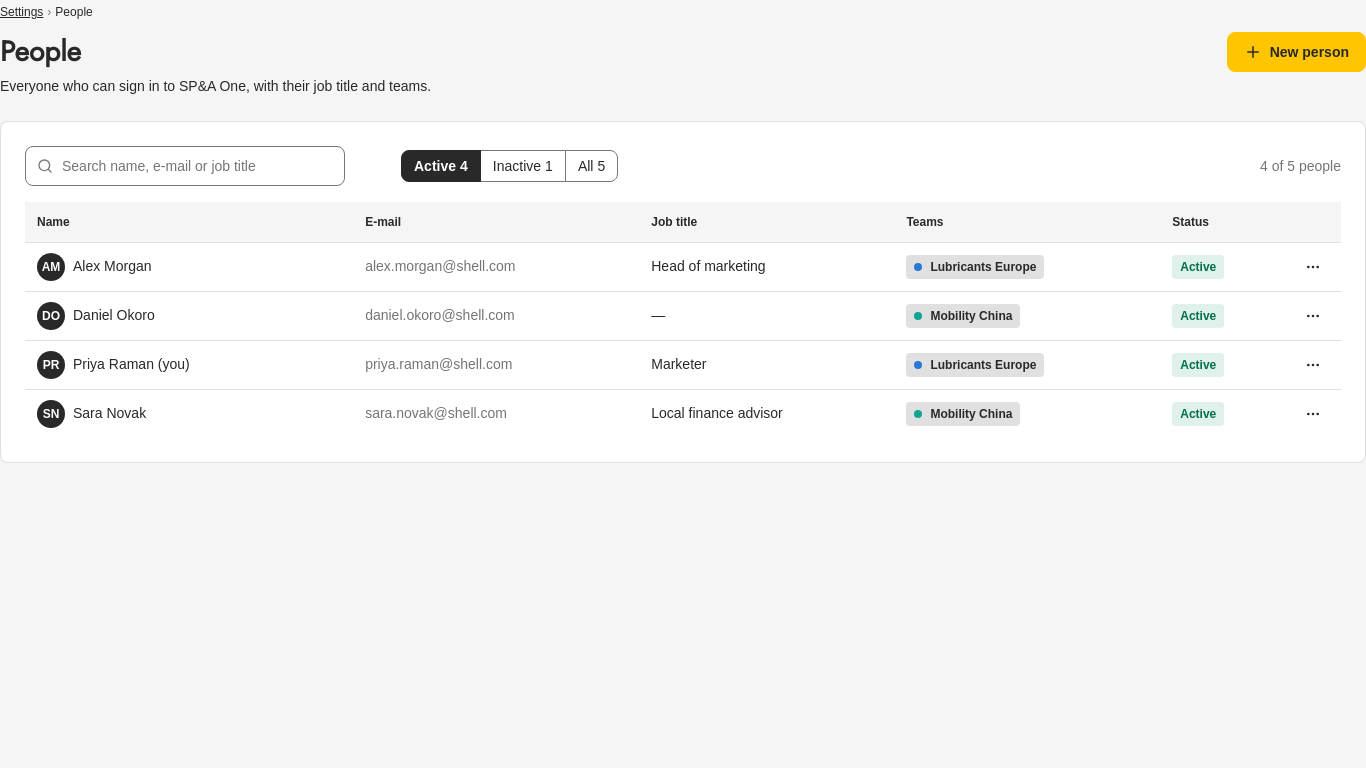
Scenario: 017 FR-016: the line manager on Settings › People › shows the API’s refusal at the field, with everything else that is wrong
Click the button named "Actions for Sara Novak" at (1313, 414), box [1297,398,1329,430]
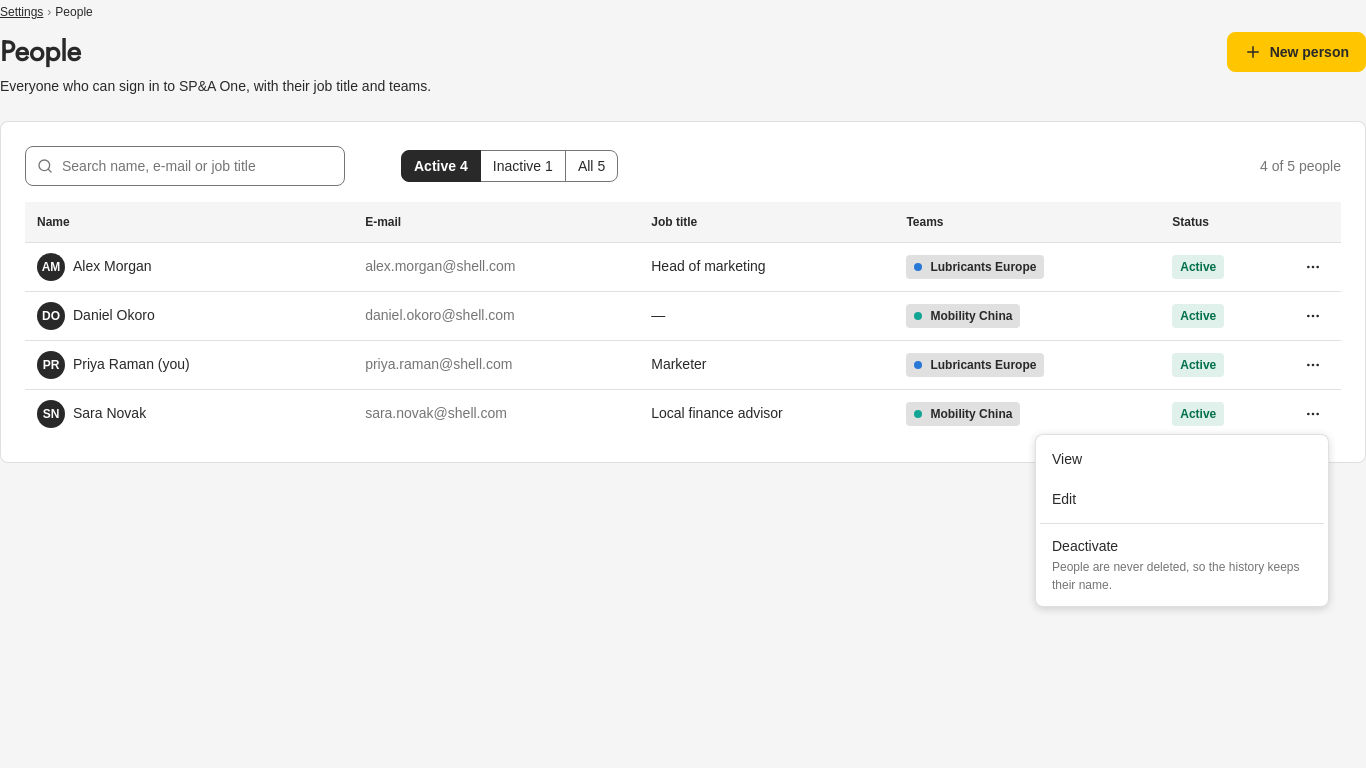
Click the menu item "Edit" at (1064, 499), box [1052,491,1076,507]
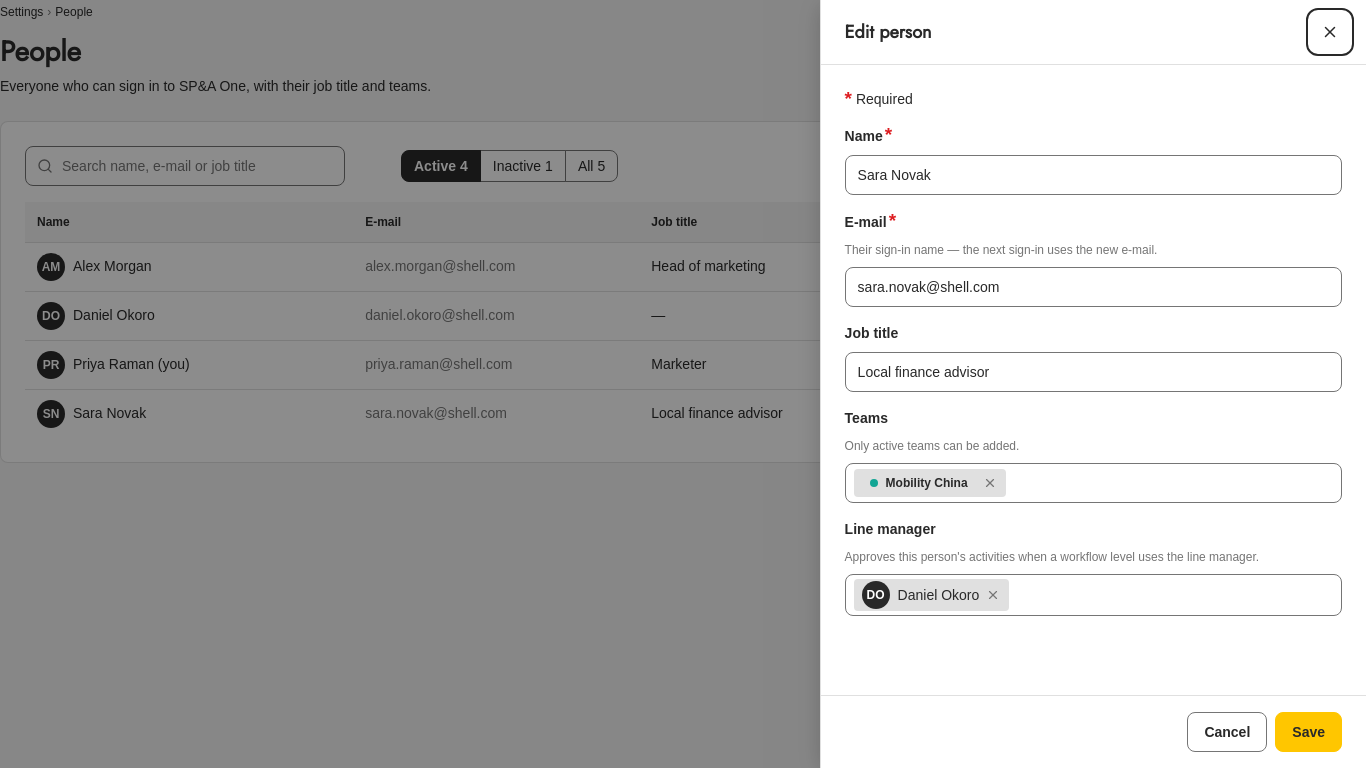
Click the button named "Remove Daniel Okoro" at (993, 595), box [981,583,1005,607]
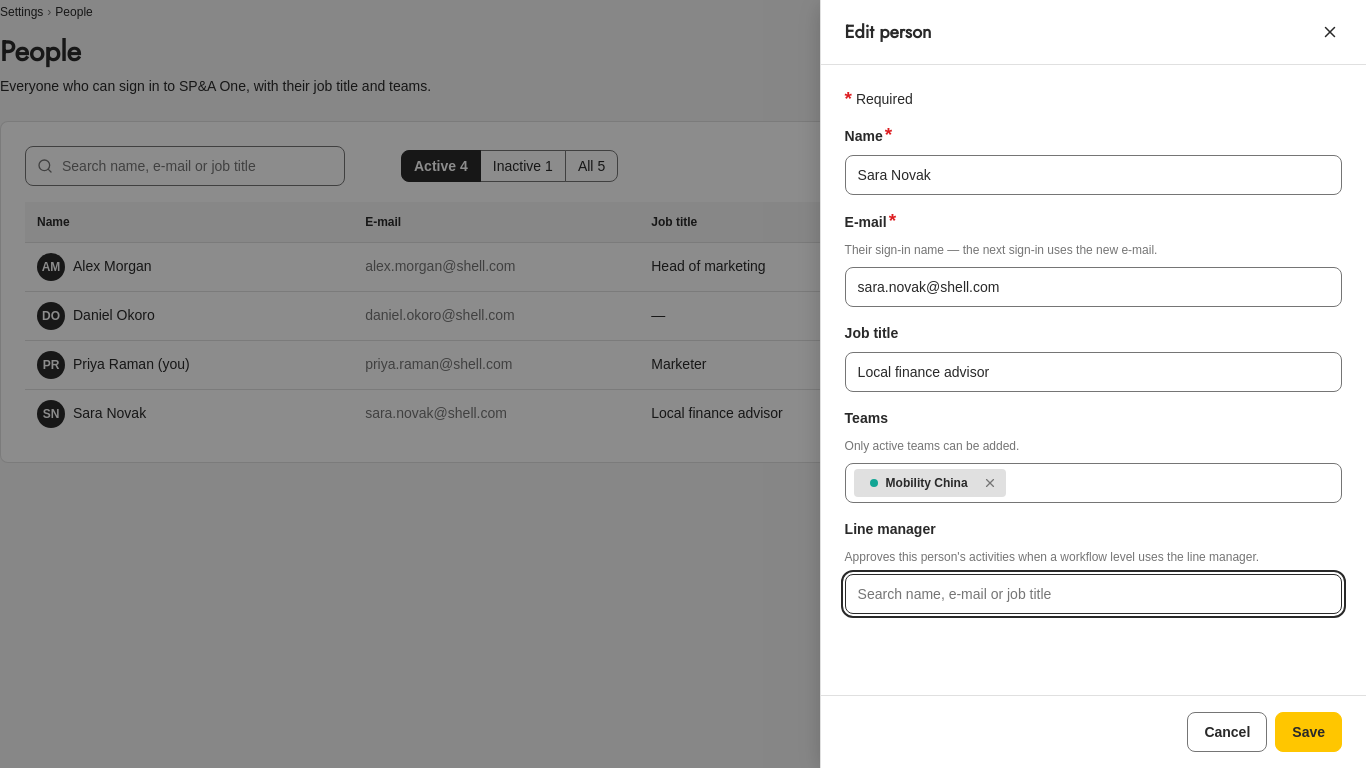
Type "Priya" into the dropdown labelled "Line manager" at (1093, 594), box [854,580,1333,608]
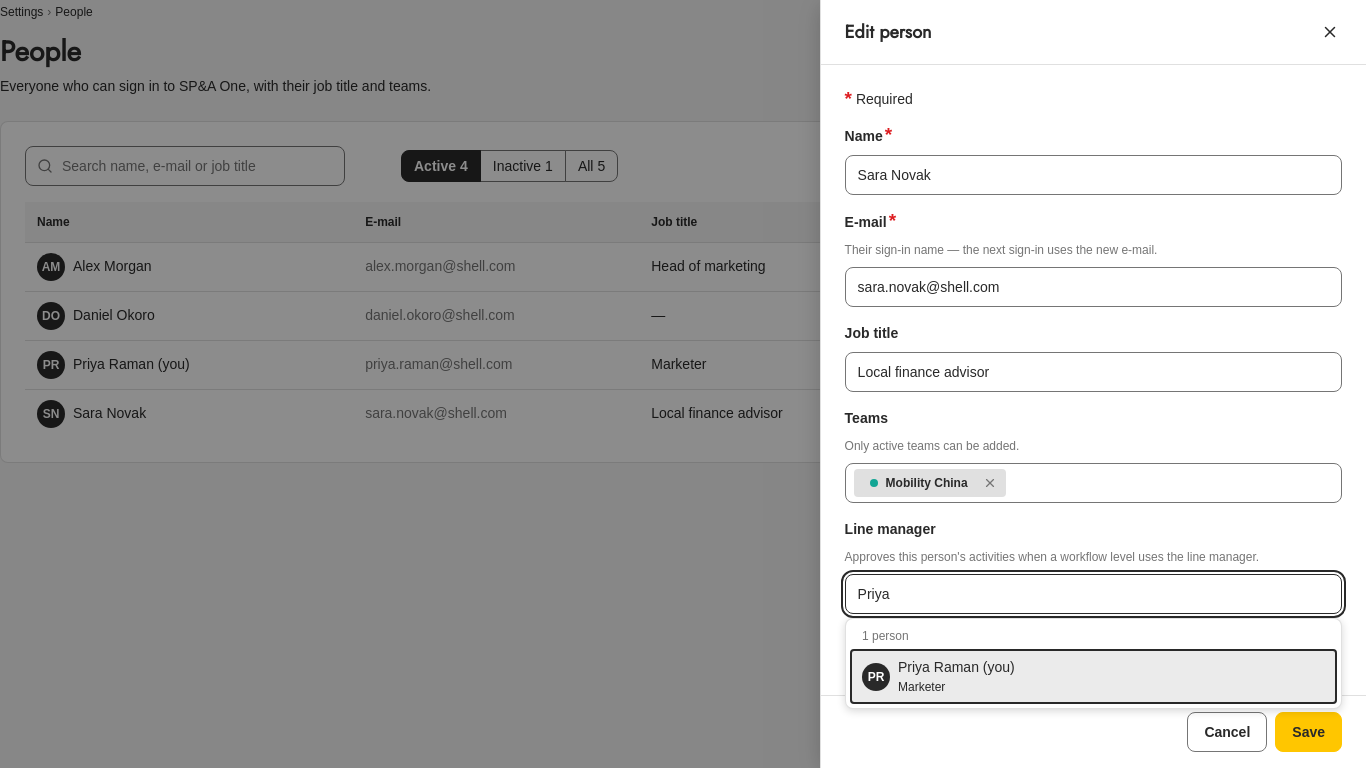
Click the option "PR Priya Raman (you) Marketer" at (938, 667), box [850,649,1337,704]
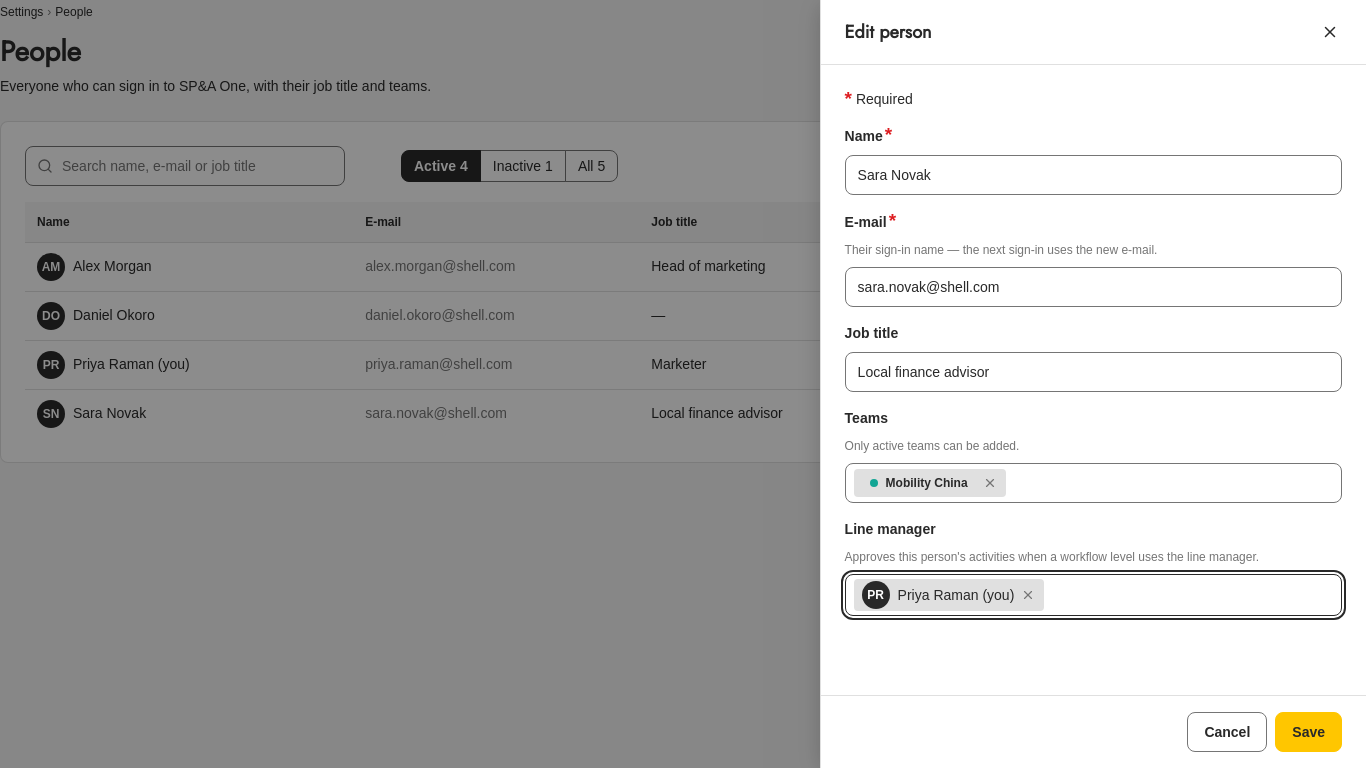
Click the button "Save" at (1309, 732), box [1275,712,1342,752]
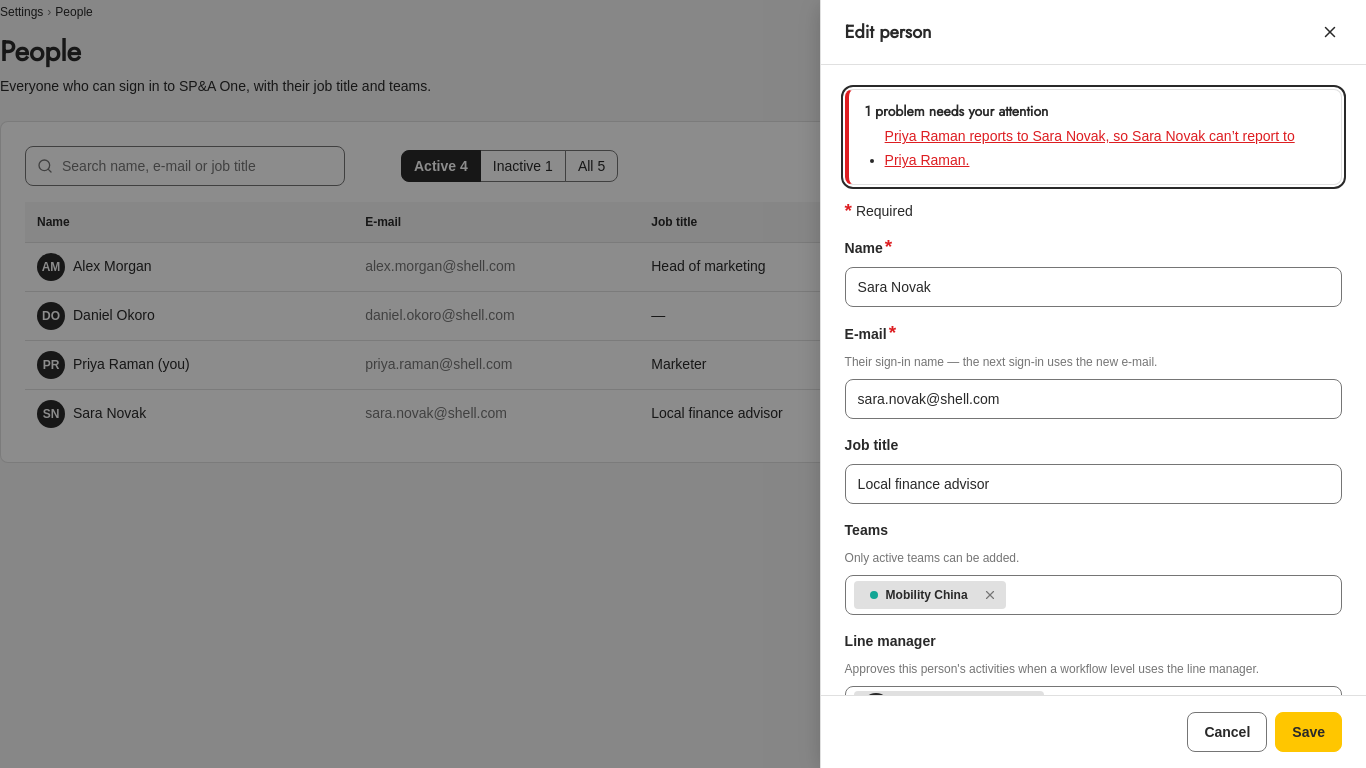
Now the number of links "Priya Raman reports to Sara Novak, so Sara Novak can’t report to Priya Raman." is 2
